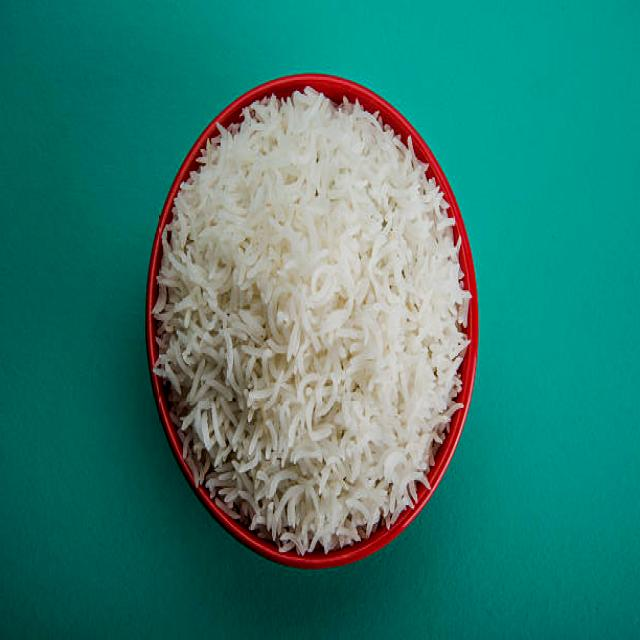Rice: (152, 86, 474, 557)
